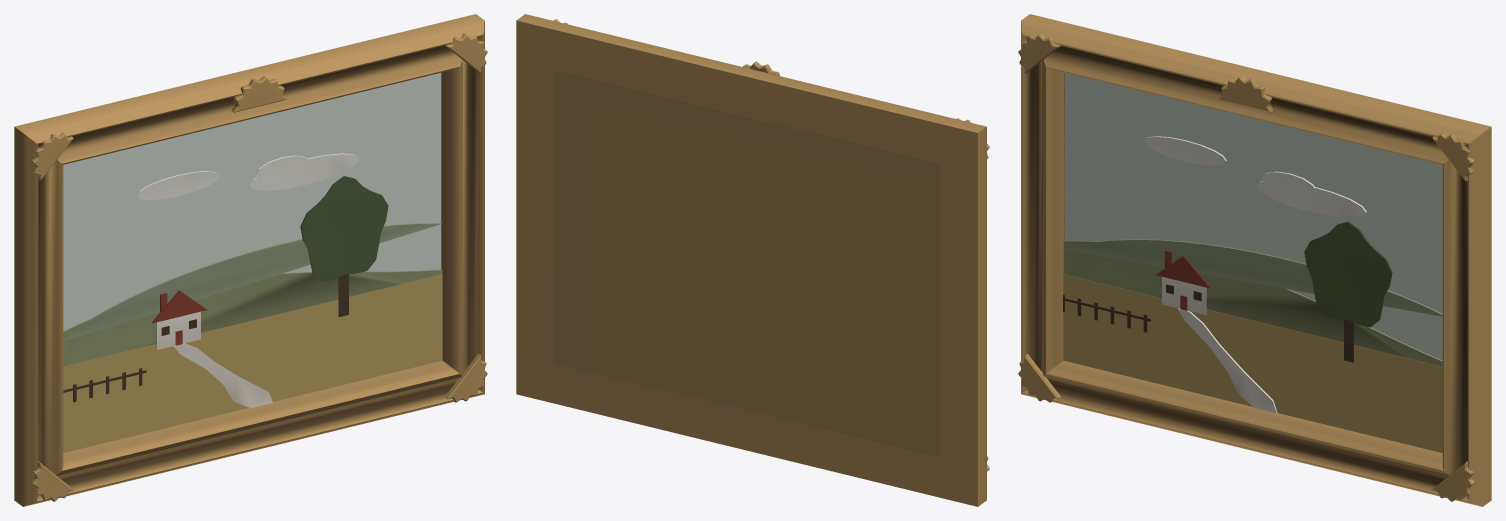
Rendered from paintingClassic.glb.
3 renders of one model, left to right at view 1: azimuth 30°, elevation 25°; view 2: azimuth 150°, elevation 25°; view 3: azimuth 330°, elevation 25°, orthographic.
Visible parts, largest first — view 1: paintingClassic; view 2: paintingClassic; view 3: paintingClassic.
Part boxes in pixels (<box>): paintingClassic: <box>14,14,487,506</box>; paintingClassic: <box>516,14,989,506</box>; paintingClassic: <box>1018,14,1491,506</box>.
Size of the model in its own units: 0.84 by 0.6547 by 0.05.
